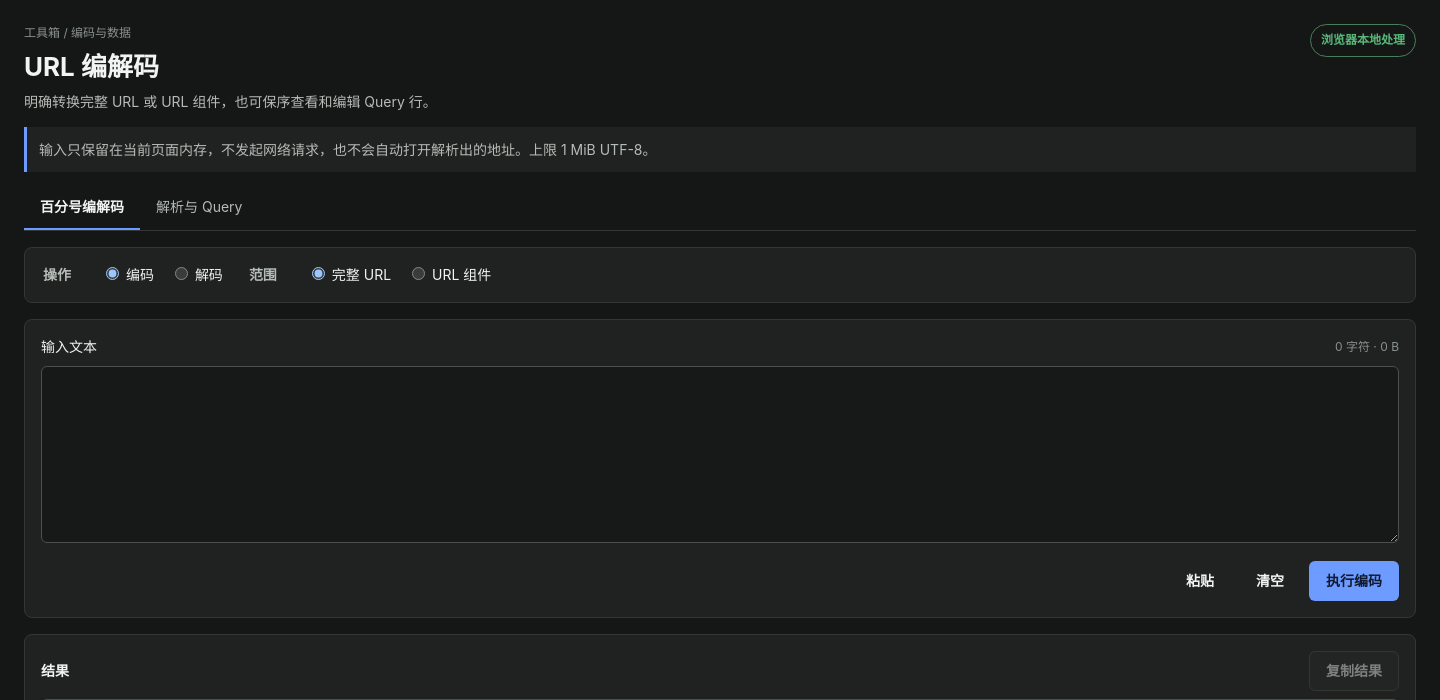
Test: URL tool result context freshness › clears the transform result and disables copying when the input changes
Type "a b" into the text box with id "url-input" at (720, 454), box [41,366,1399,543]
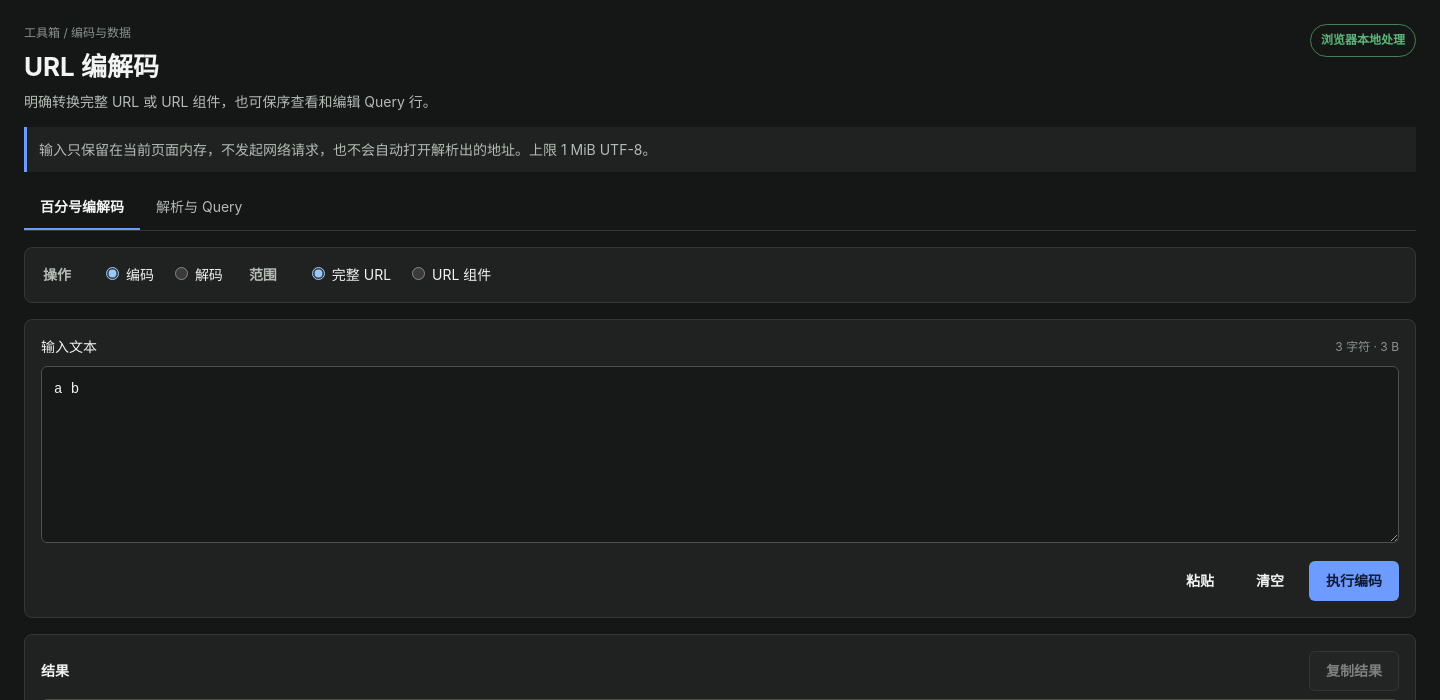
Click the button "执行编码" at (1354, 581), box [1309,561,1399,601]
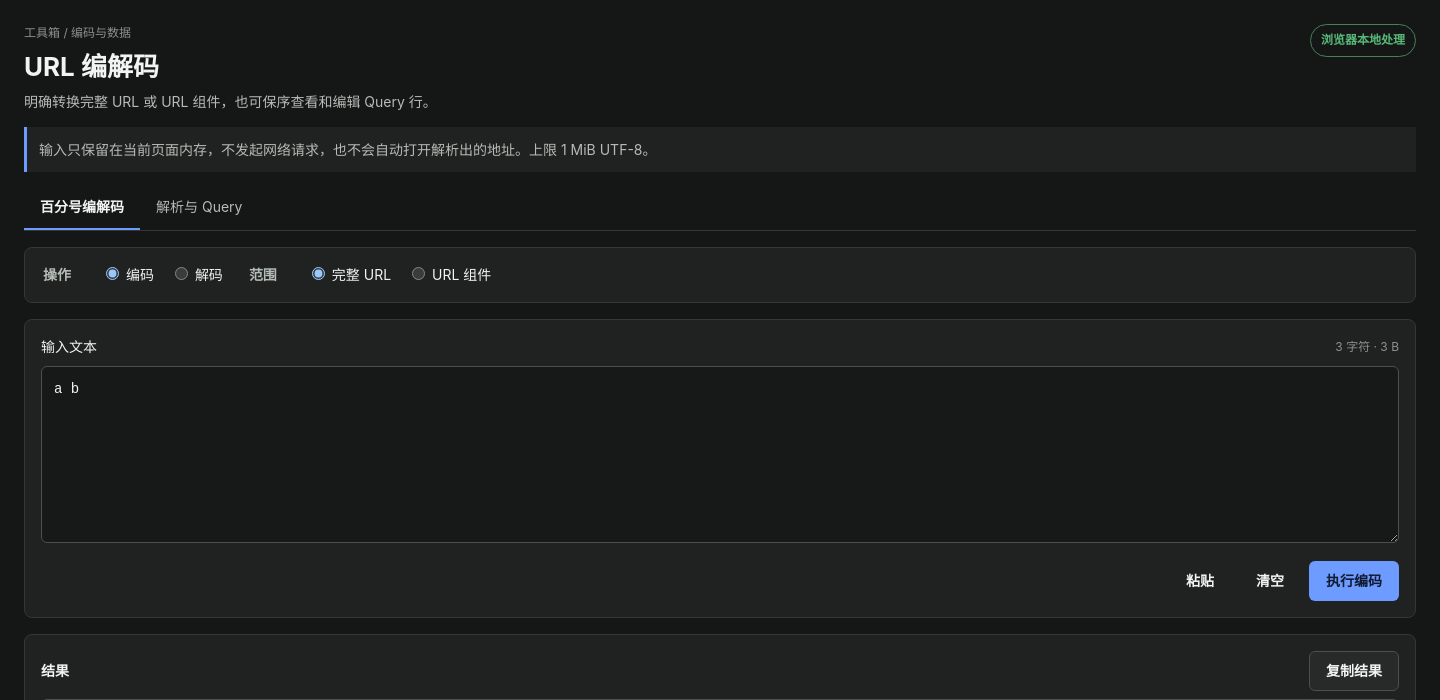
Replace the text in the text box with id "url-input" with "c d" at (720, 454), box [41,366,1399,543]
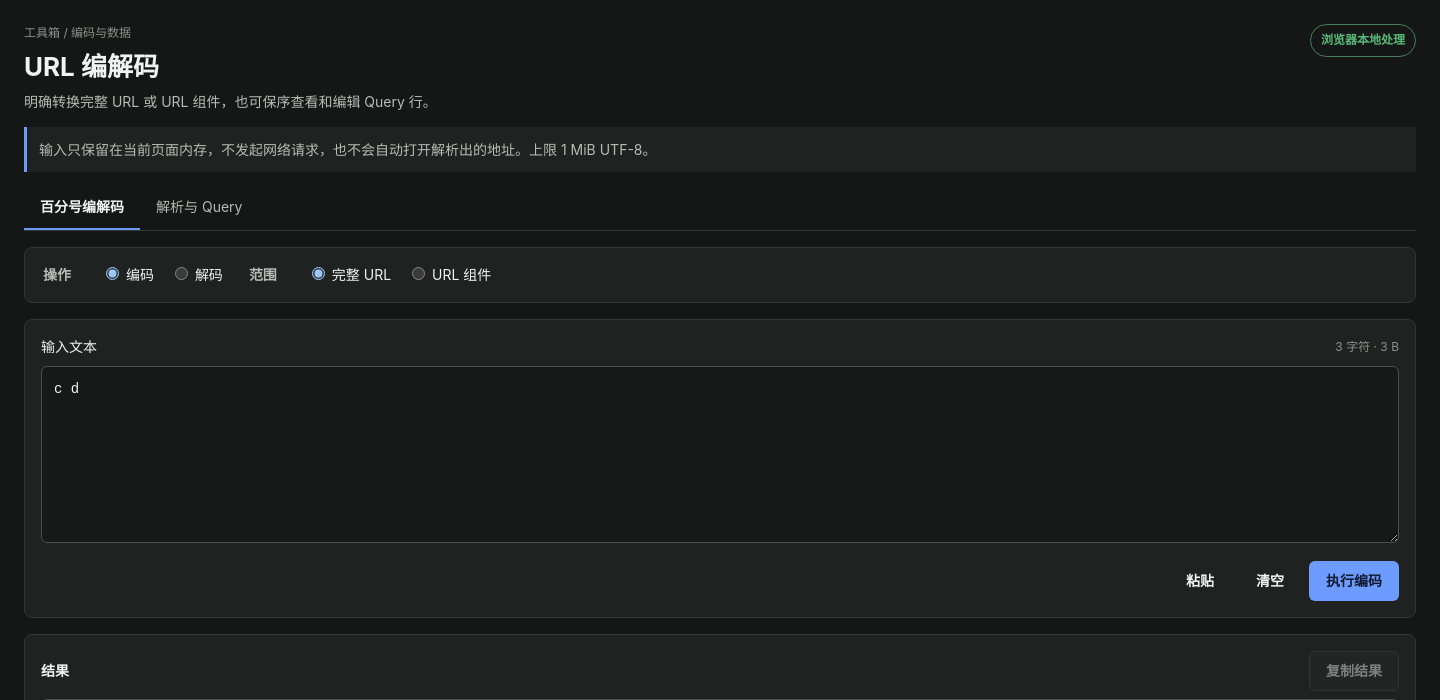
Expected: the button "复制结果" is disabled, [1309,651,1399,691]
